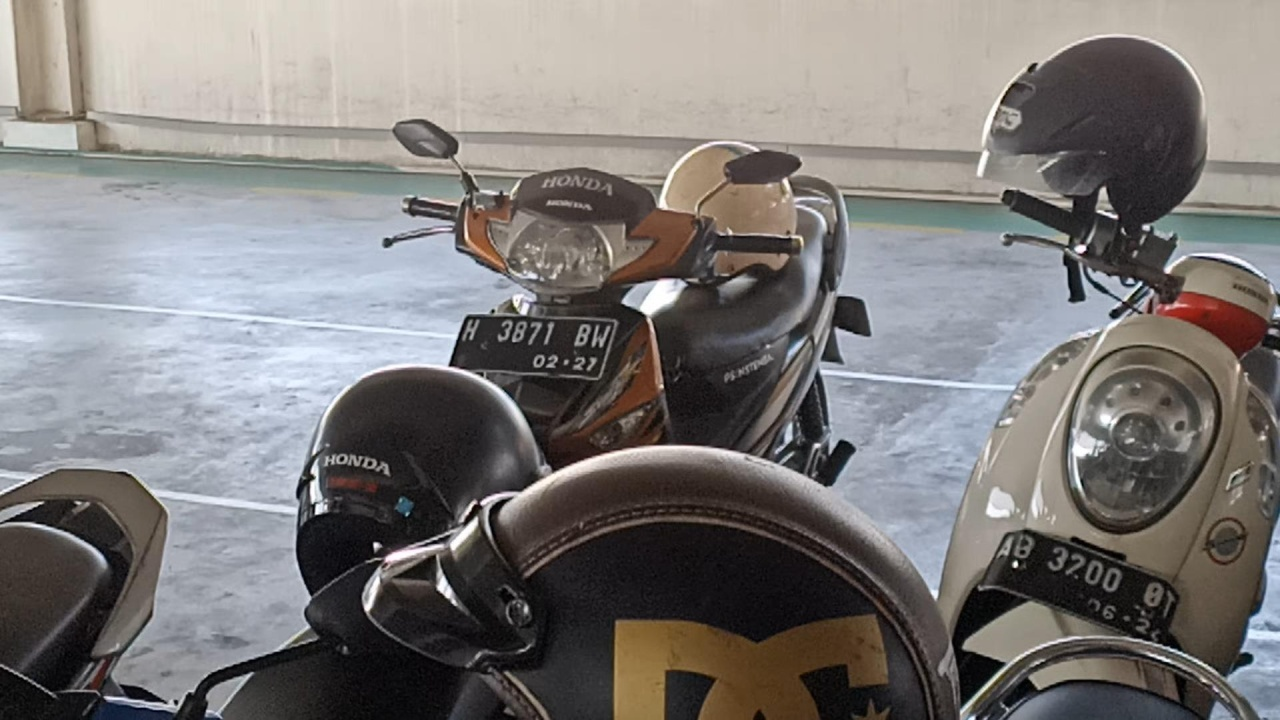plate: (976, 528, 1180, 656), (447, 315, 617, 379)
